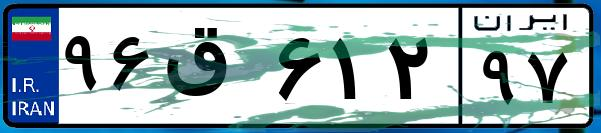1: (330, 28, 385, 110)
2: (385, 28, 445, 110)
6: (270, 28, 330, 110), (110, 28, 158, 98)
7: (525, 38, 570, 115)
9: (57, 26, 110, 100), (475, 38, 525, 113)
ق: (158, 20, 270, 120)
